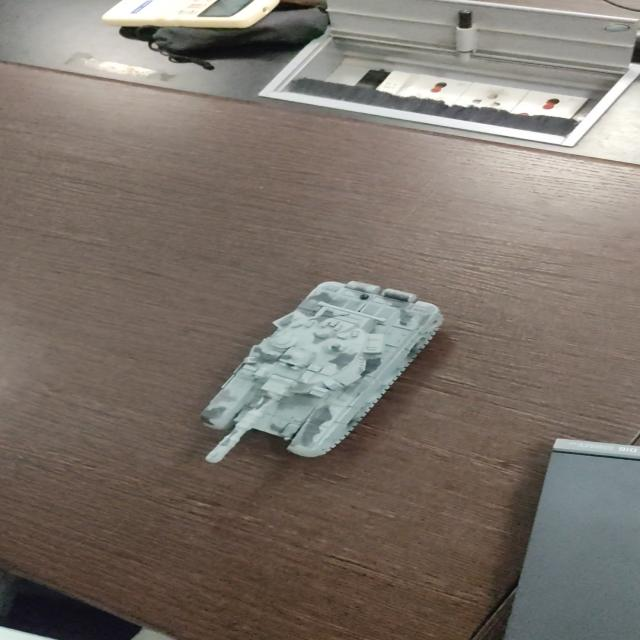tank: (202, 278, 443, 468)
